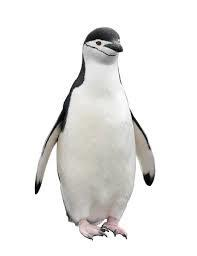chinstrap: (33, 27, 174, 256)
